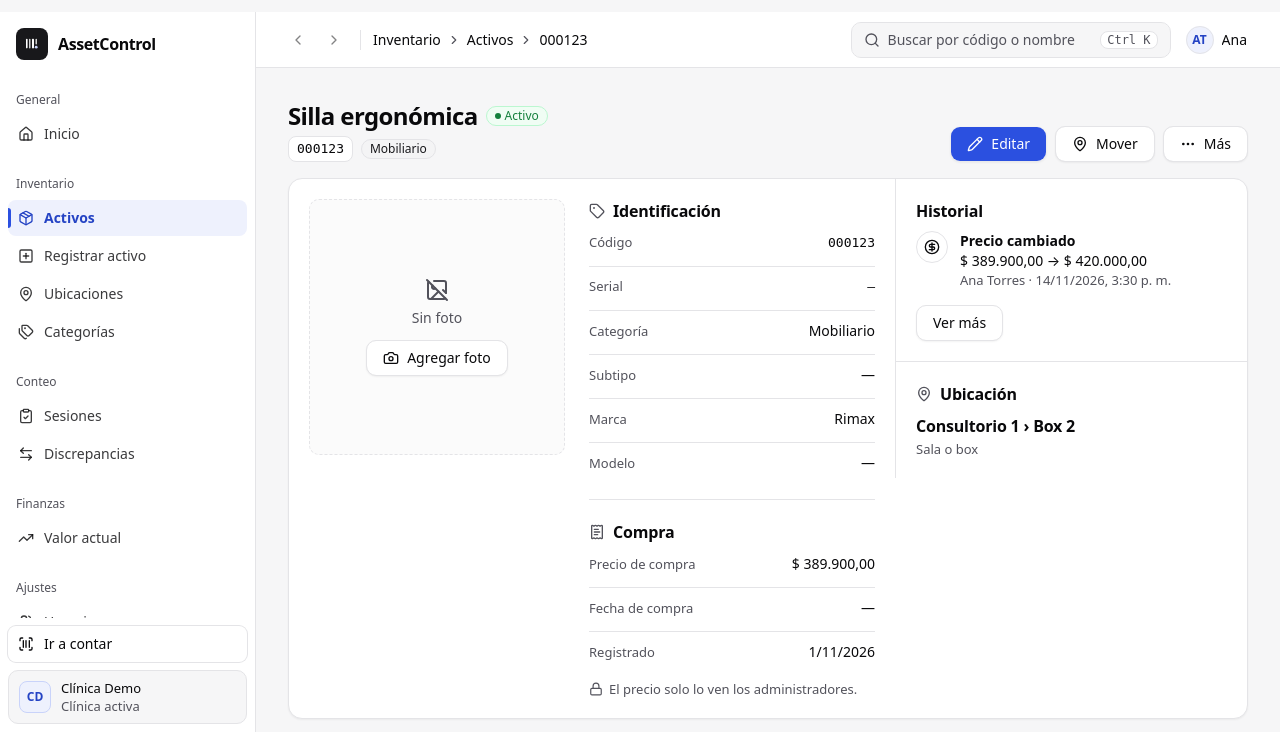
Scenario: historial (T7) › el admin ve precios en la ficha y carga más páginas
This screenshot has width=1280, height=732.
Expected: the text "$ 389.900,00 → $ 420.000,00" is shown, [960,251,1147,270]
Click the button "Ver más": point(960, 323) [916,305,1003,341]
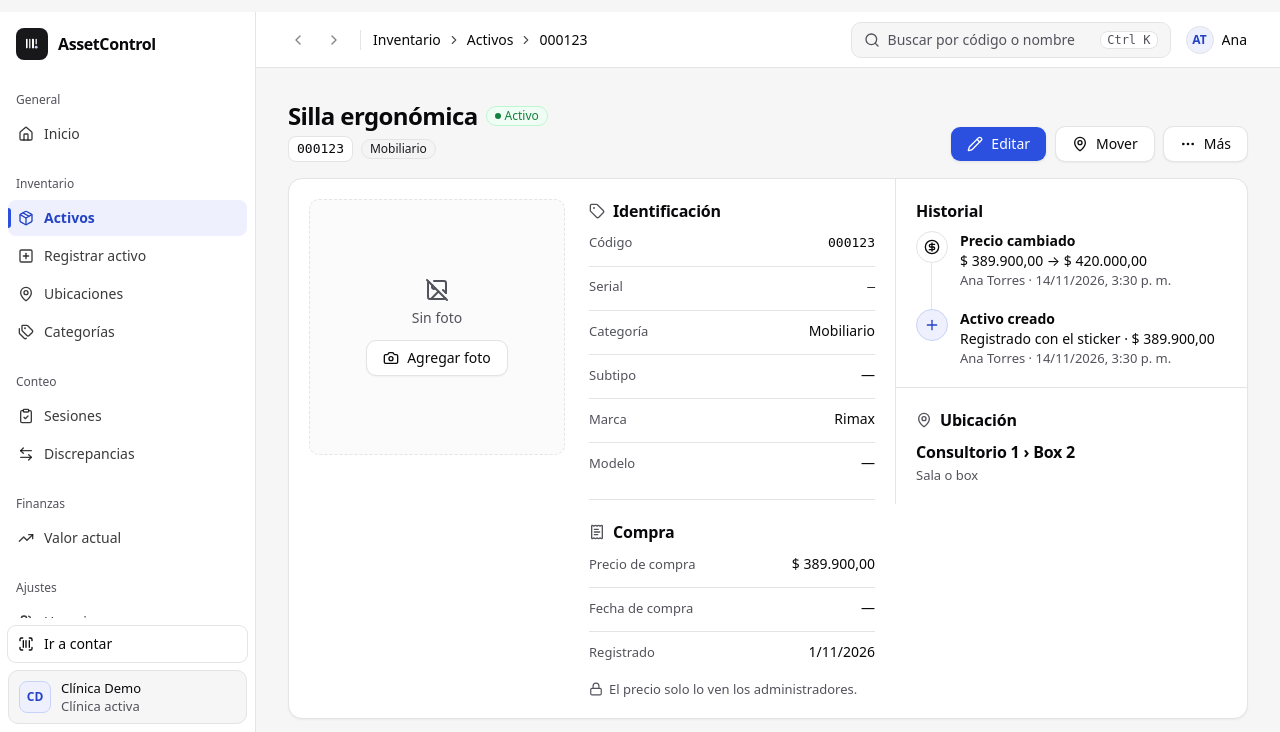
Now the text "Registrado con el sticker · $ 389.900,00" is shown, box [960,329,1227,349]
